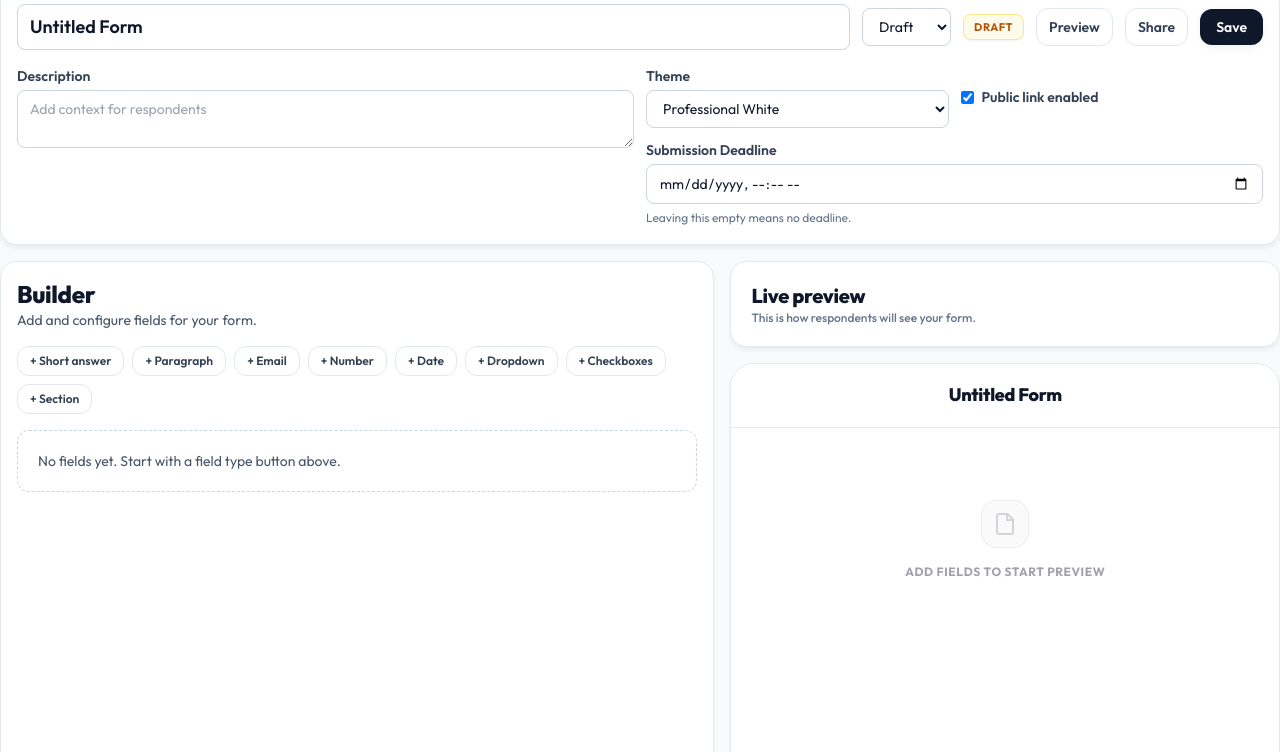
Test case: FormBuilderPage › allows adding different types of fields
Step 1. Click the button "+ Short answer" → (71, 361), box [17,346,124,376]
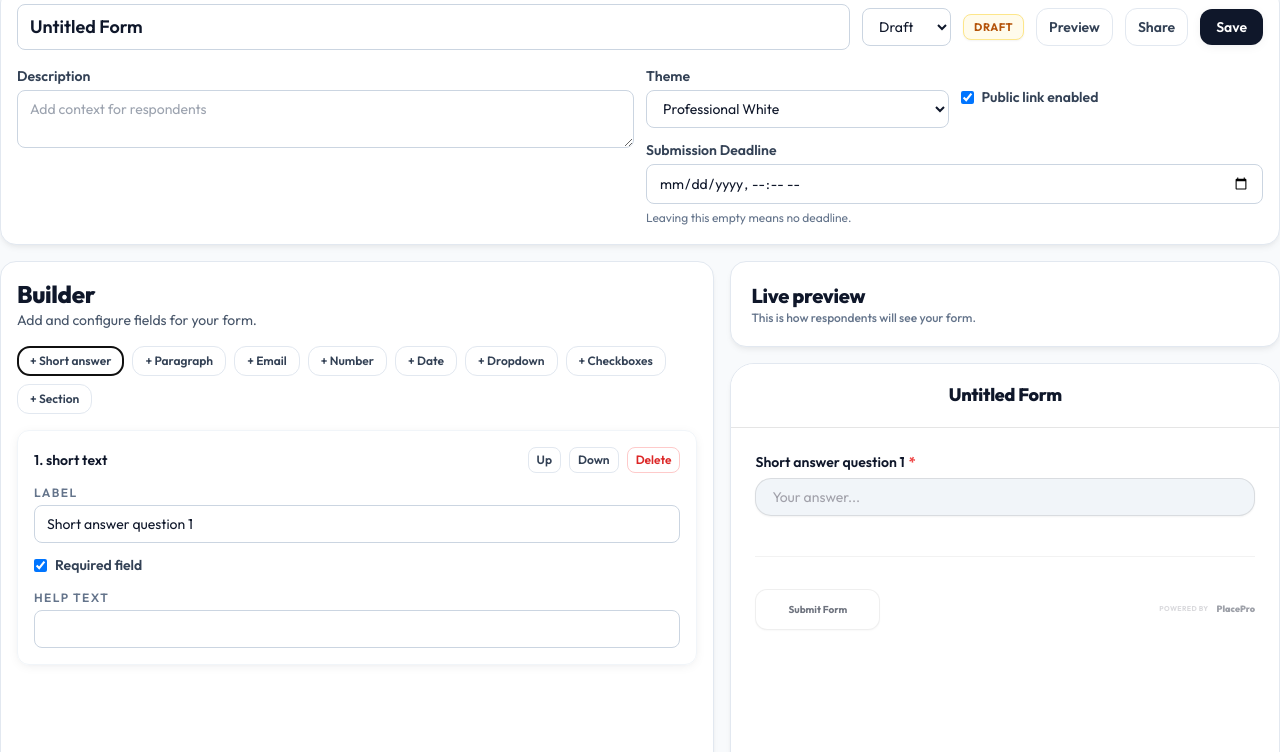
Step 2. Click the button "+ Paragraph" → (179, 361), box [132,346,226,376]
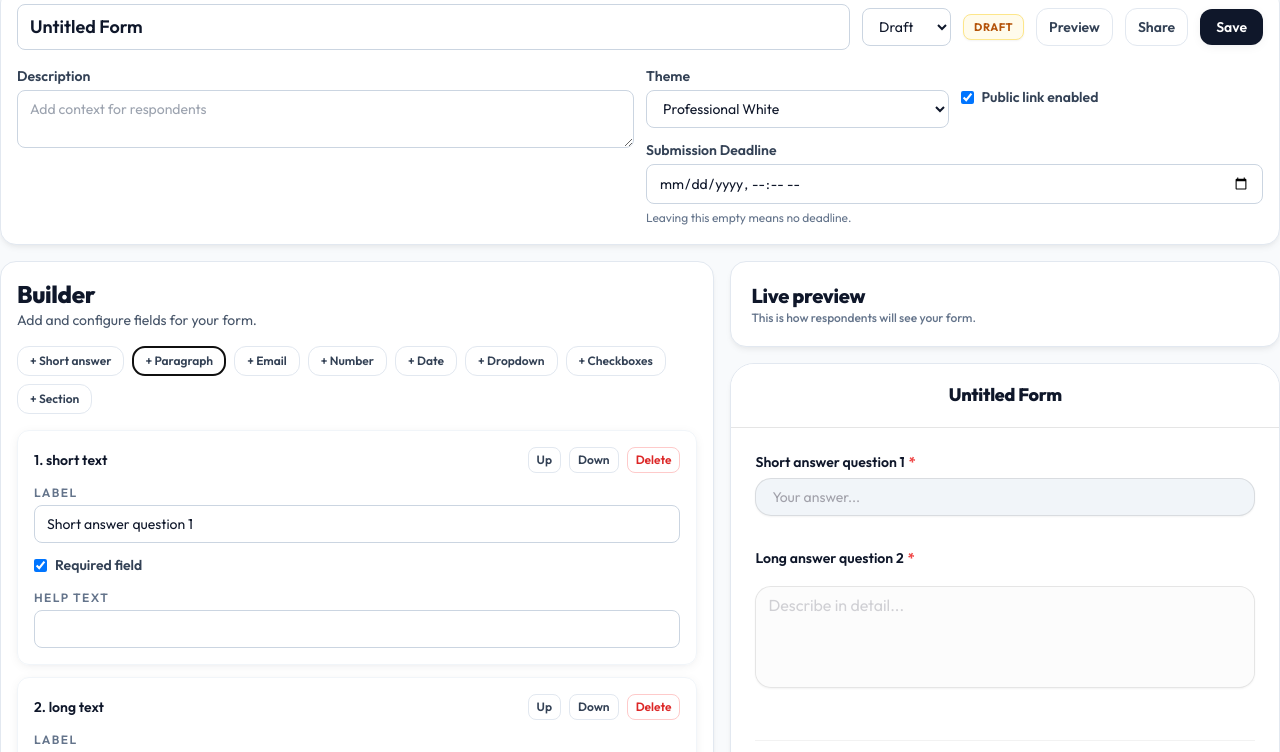
Step 3. Click the button "+ Dropdown" → (511, 361), box [465,346,558,376]
(page scrolled)
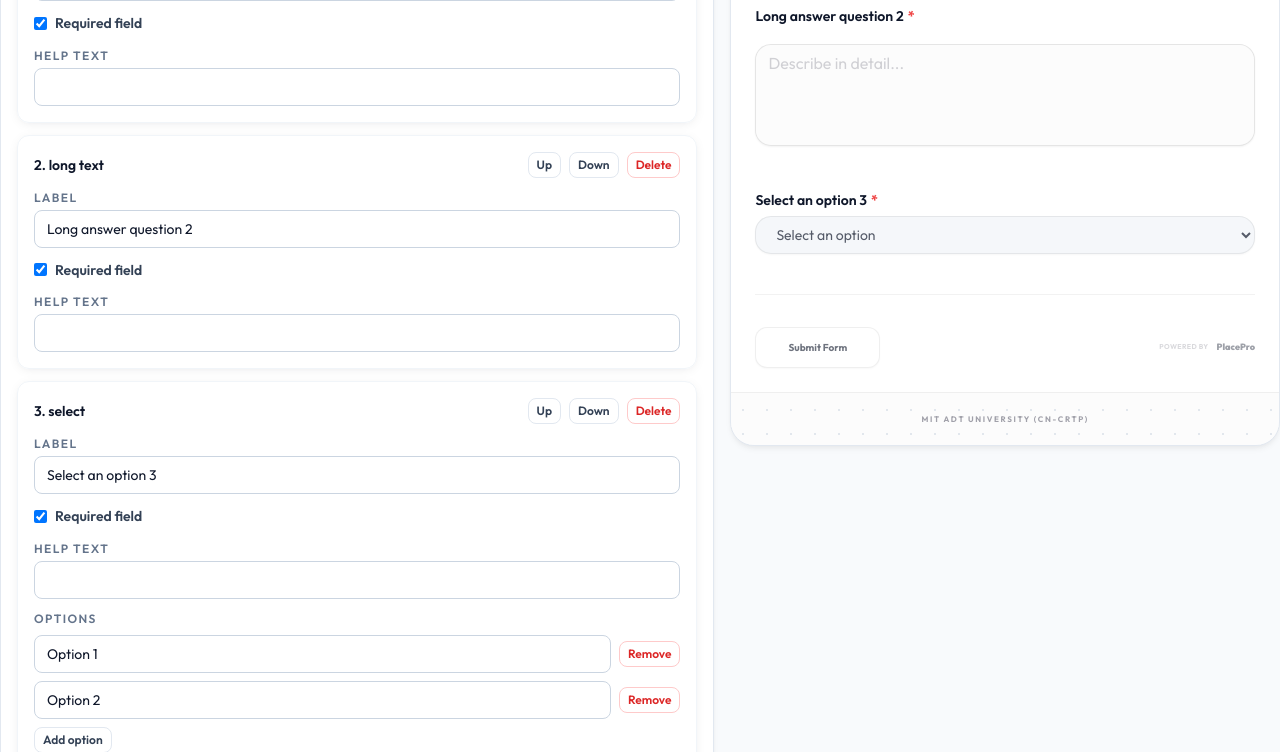
Result: the text "2. long text" is shown at [34,154,104,174]
Result: the text "3. select" is shown at [34,401,85,421]
